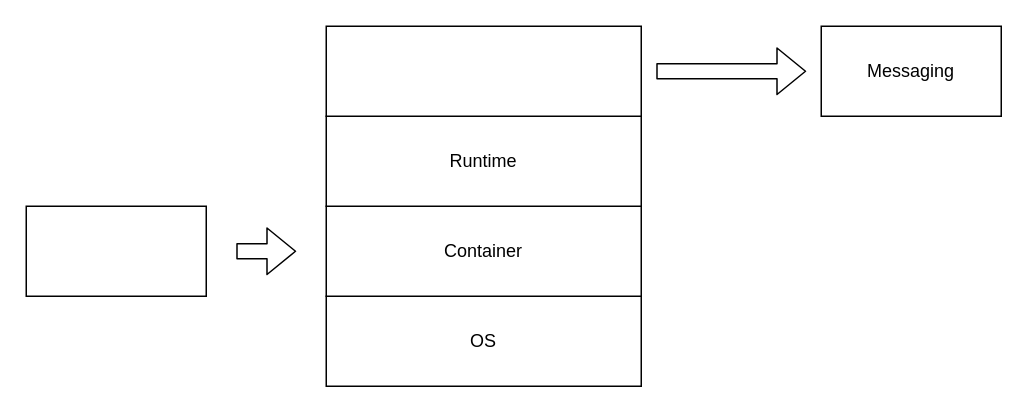
This 1028x413 diagram has some shape labels left out. The shapes that lost their labels are listed below. From the top down, each one's centre as x and y in pixels, then its label:
At (483,70): "Application".
At (115,250): "Deploy".
